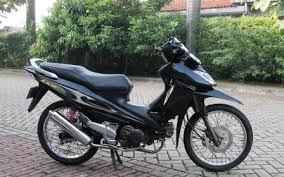motorcycle: (23, 36, 254, 172)
